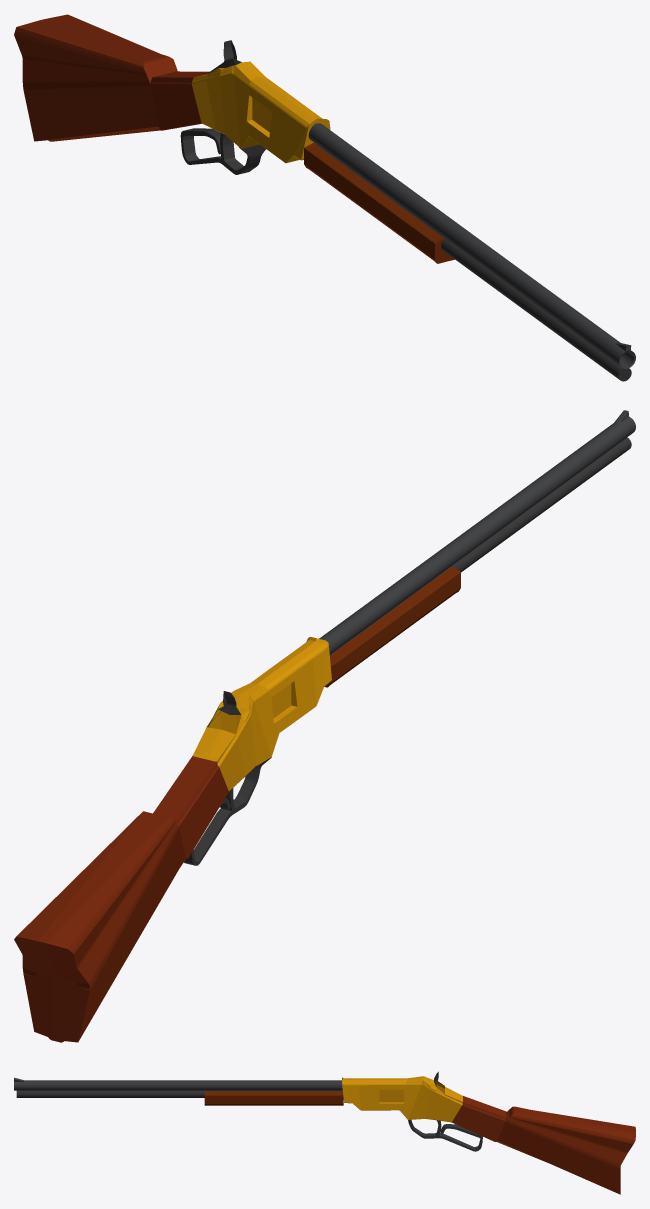
Rendered from LeverActionRifle.fbx.
The picture shows the model from 3 angles, top to bottom: view 1: azimuth 30°, elevation 25°; view 2: azimuth 150°, elevation 25°; view 3: azimuth 270°, elevation 25°; orthographic projection. The views are drawn at different scales.
Parts seen in each view (by area): view 1: Cube, Cylinder, Cube.001, Cylinder.001; view 2: Cube, Cylinder, Cube.001, Cylinder.001; view 3: Cube, Cylinder, Cube.001, Cylinder.001.
Part boxes in pixels (x1,y1,x2,y2): Cube: (14, 14, 330, 174); Cylinder: (308, 123, 635, 368); Cube.001: (304, 142, 454, 263); Cylinder.001: (317, 145, 631, 381); Cube: (14, 636, 331, 1042); Cylinder: (319, 410, 635, 654); Cube.001: (325, 566, 460, 687); Cylinder.001: (329, 437, 631, 655); Cube: (342, 1071, 635, 1194); Cylinder: (14, 1077, 342, 1090); Cube.001: (204, 1090, 343, 1105); Cylinder.001: (16, 1090, 340, 1097).
Size of the model in its own units: 0.5906 by 1.9 by 8.96.
